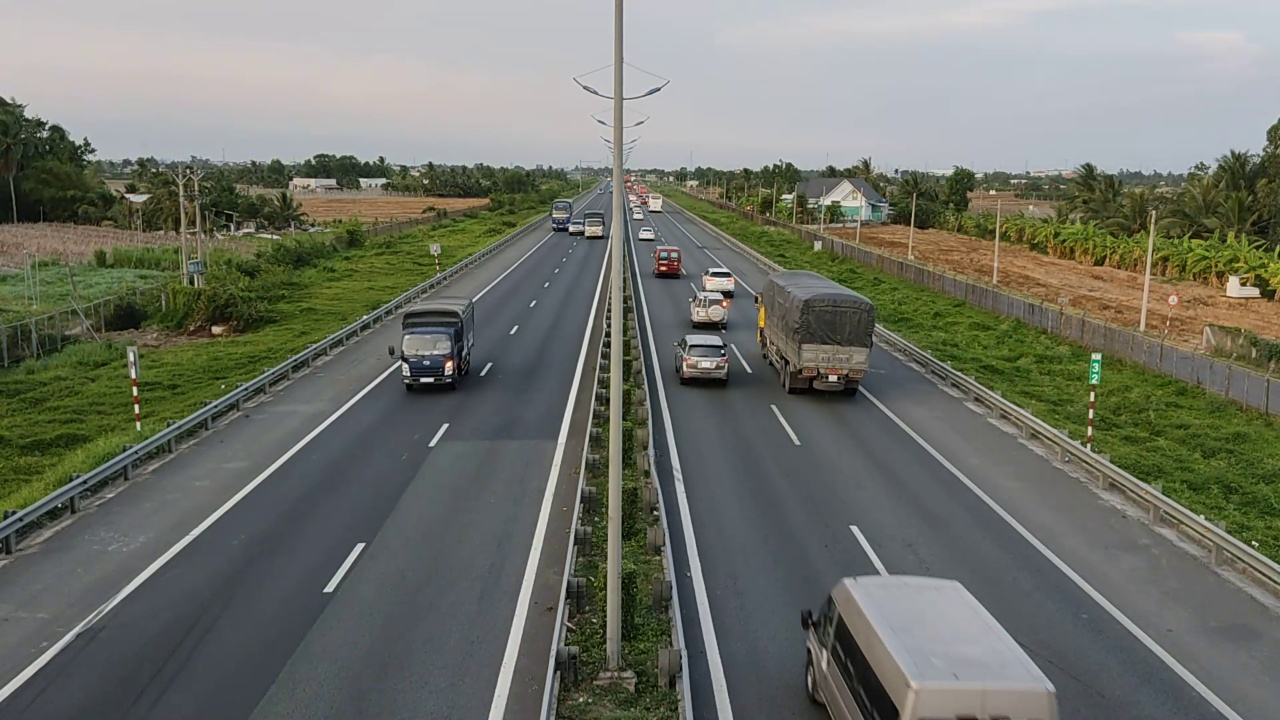car: (804, 568, 1058, 715), (672, 332, 730, 386), (651, 245, 683, 278), (701, 267, 735, 296), (637, 226, 655, 241)
truck: (755, 268, 875, 395), (396, 292, 476, 390)
